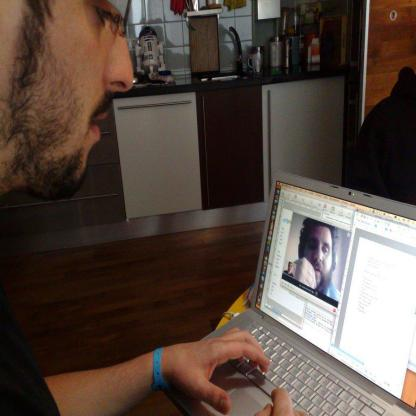board: (188, 172, 416, 414)
